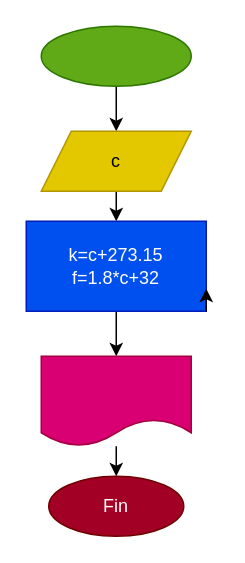
Some shapes in this 245 by 563 pixel diagram are drawn without their labels. Each missing label, with the centre of its shape:
"f,k" goes at point (115, 400).
"Inicio" goes at point (115, 55).
